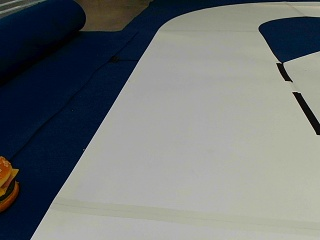burger: (0, 153, 20, 213)
